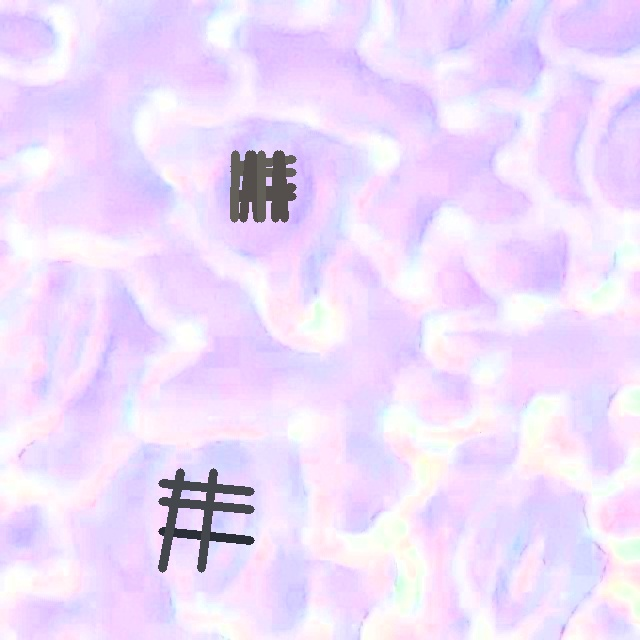close: (230, 151, 296, 222)
open: (158, 469, 254, 571)
